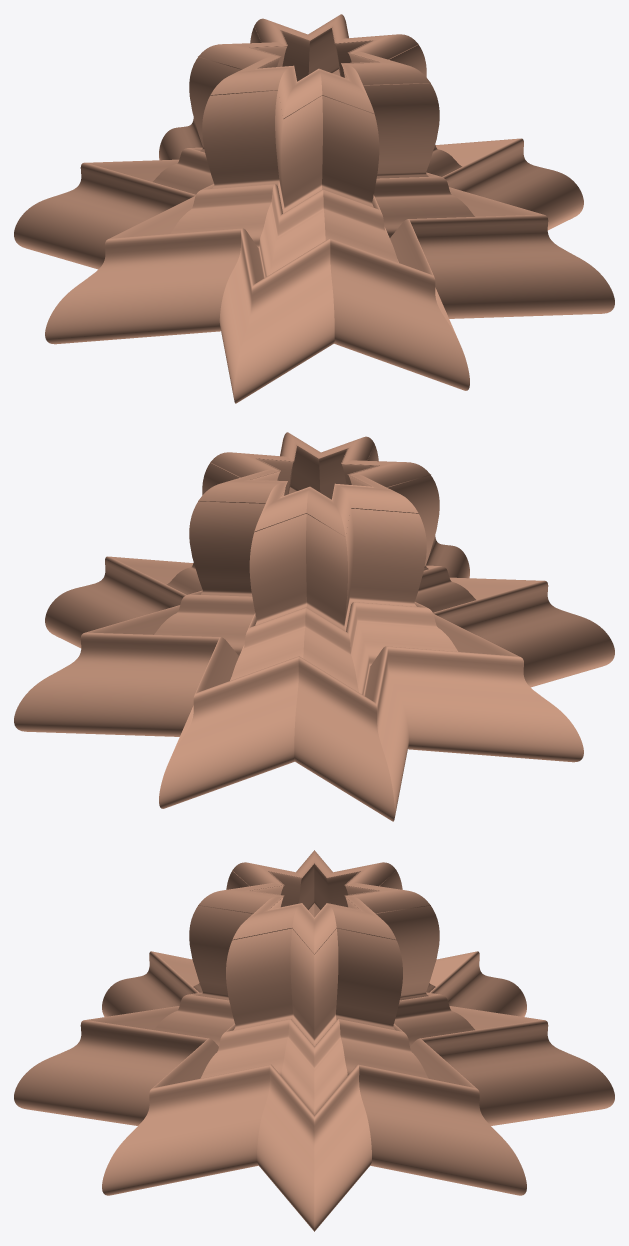
The picture shows the model from 3 angles, top to bottom: view 1: azimuth 30°, elevation 25°; view 2: azimuth 150°, elevation 25°; view 3: azimuth 270°, elevation 25°; orthographic projection. The views are drawn at different scales.
Parts seen in each view (by area): view 1: flight1; view 2: flight1; view 3: flight1.
Boxes of the visible parts, x1,y1,x2,y2 form: flight1: (14,14,614,403); flight1: (14,432,614,821); flight1: (14,850,614,1231).
Size of the model in its own units: 16.48 by 6.72 by 16.48.
